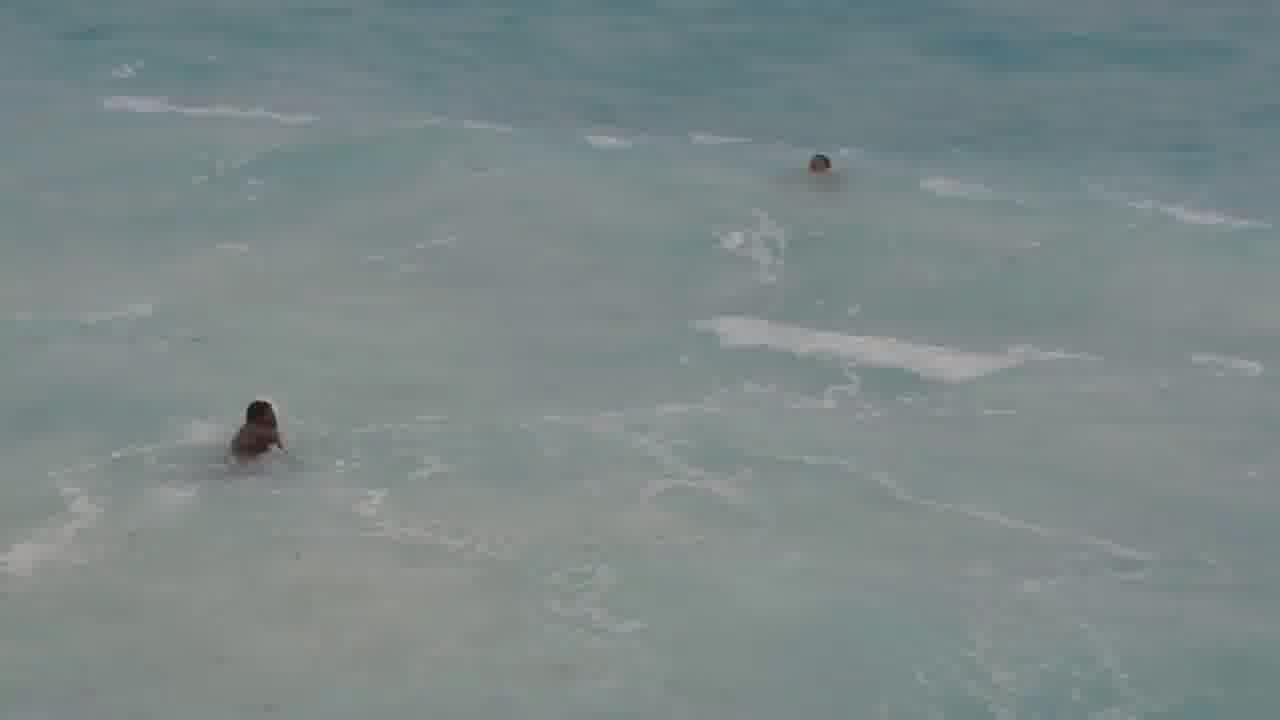swimmer: (216, 383, 301, 477), (800, 146, 841, 186)
